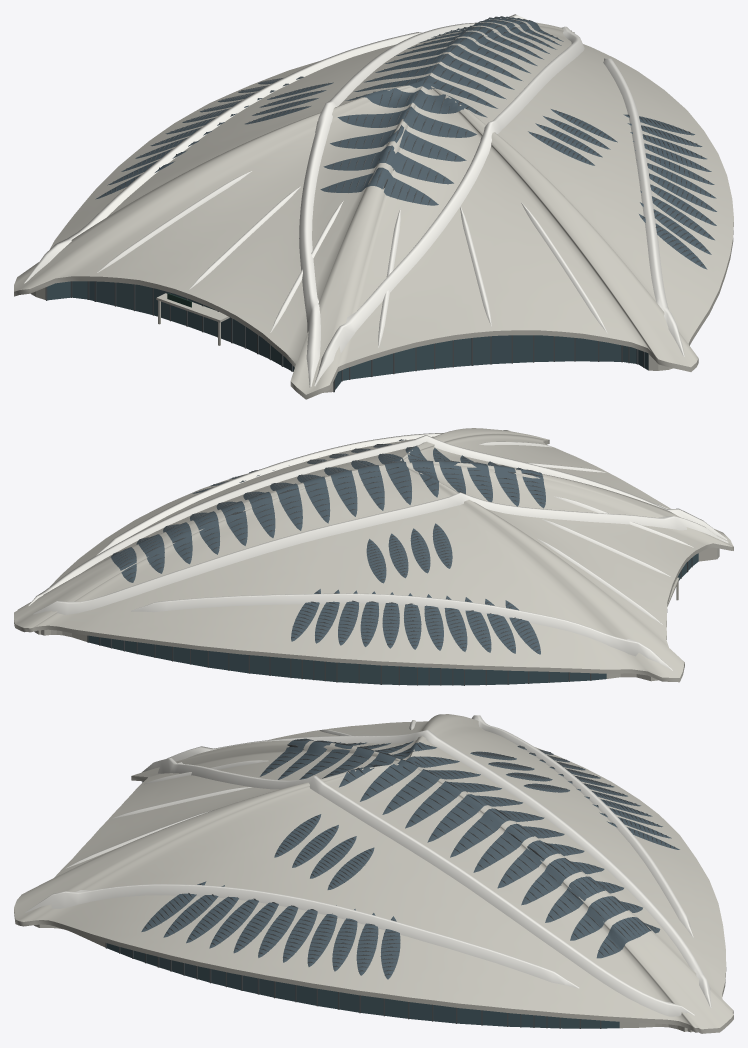
Rendered from biodome-de-montreal-near.glb.
3 views of the same model, one above another, from view 1: azimuth 30°, elevation 25°; view 2: azimuth 150°, elevation 25°; view 3: azimuth 270°, elevation 25° (orthographic). The views are drawn at different scales.
Visible parts, largest first — view 1: biodome-de-montreal-0-concrete, biodome-de-montreal-0-skylight, biodome-de-montreal-0-rib, biodome-de-montreal-0-glass, biodome-de-montreal-0-frame; view 2: biodome-de-montreal-0-concrete, biodome-de-montreal-0-rib, biodome-de-montreal-0-skylight, biodome-de-montreal-0-frame, biodome-de-montreal-0-glass; view 3: biodome-de-montreal-0-concrete, biodome-de-montreal-0-skylight, biodome-de-montreal-0-rib, biodome-de-montreal-0-frame, biodome-de-montreal-0-glass.
Boxes of the visible parts, x1,y1,x2,y2 form: biodome-de-montreal-0-concrete: (14, 18, 733, 399); biodome-de-montreal-0-skylight: (95, 17, 716, 269); biodome-de-montreal-0-rib: (24, 14, 684, 387); biodome-de-montreal-0-glass: (47, 281, 648, 389); biodome-de-montreal-0-frame: (45, 16, 712, 392); biodome-de-montreal-0-concrete: (14, 428, 733, 682); biodome-de-montreal-0-rib: (28, 430, 728, 670); biodome-de-montreal-0-skylight: (110, 440, 545, 654); biodome-de-montreal-0-frame: (87, 439, 692, 685); biodome-de-montreal-0-glass: (88, 553, 698, 685); biodome-de-montreal-0-concrete: (14, 714, 733, 1033); biodome-de-montreal-0-skylight: (141, 739, 679, 979); biodome-de-montreal-0-rib: (25, 715, 711, 1016); biodome-de-montreal-0-frame: (105, 738, 675, 1028); biodome-de-montreal-0-glass: (107, 943, 619, 1028).
Bounding box in the file's own units: 160 × 33.67 × 158.
